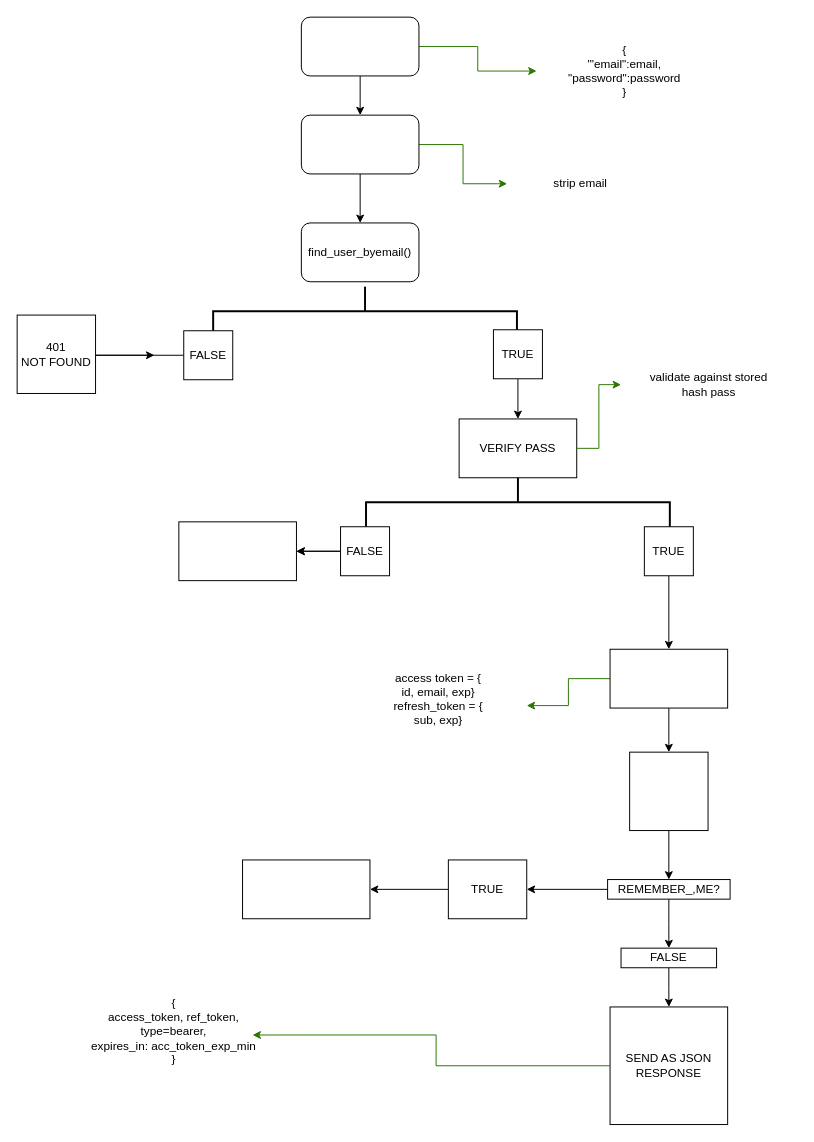
Some shapes in this 814 by 1142 pixel diagram are drawn without their labels. The shapes that lost their labels are listed below. From the top down, each one's centre as x and y in pixels, then its label:
At pixel 359 46: "POST /login".
At pixel 359 144: "user_login()".
At pixel 237 551: "401 INVALID".
At pixel 668 678: "CREATE ACCESS/REFRESH TOKENS".
At pixel 668 791: "SAVE REFRESH TO REF DB".
At pixel 306 889: "SEND TOKENS AS COOKIES".
